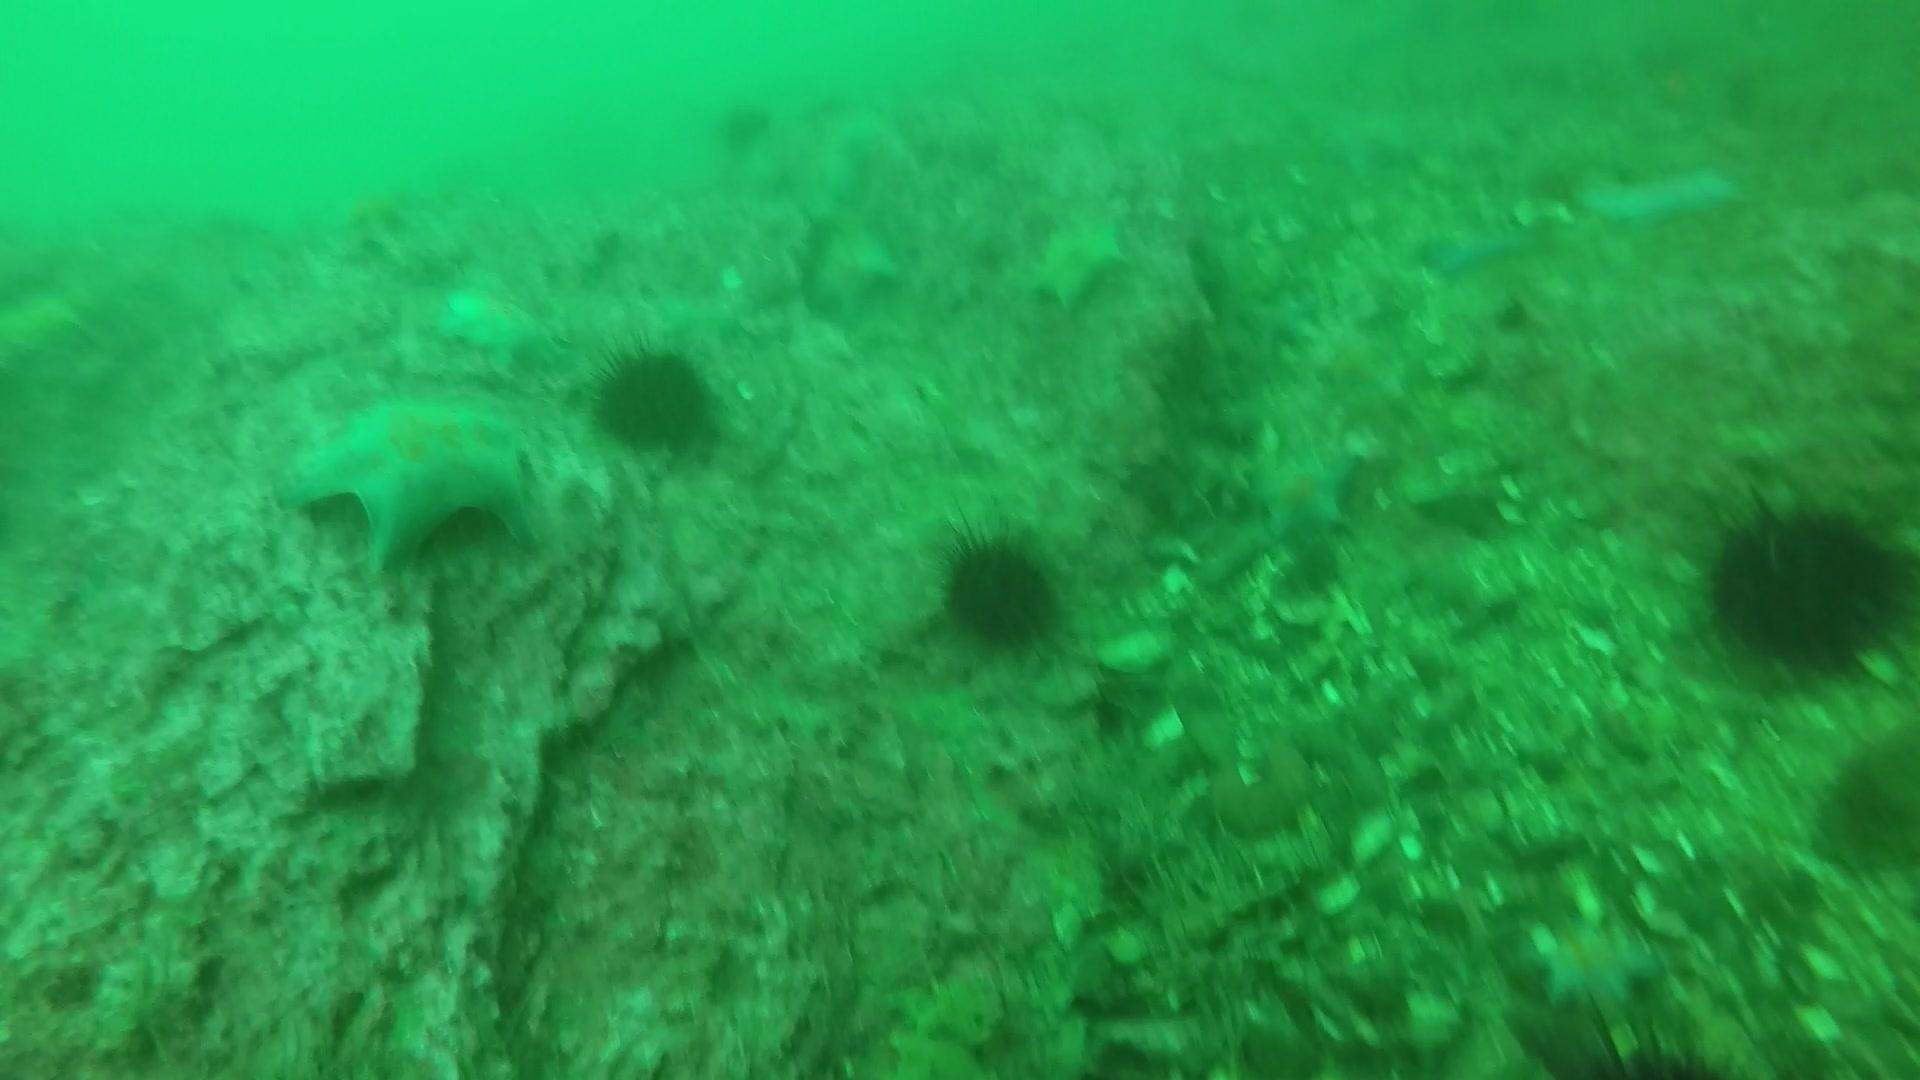echinus: (1693, 487, 1913, 683), (930, 521, 1069, 659), (584, 338, 724, 460), (709, 94, 775, 156)
holothurian: (881, 948, 1019, 1080)
starfish: (277, 392, 550, 576), (1516, 903, 1665, 1021), (1237, 423, 1371, 549), (1021, 200, 1137, 316), (429, 274, 555, 373), (1291, 310, 1408, 407), (800, 218, 906, 323), (1307, 98, 1428, 182), (1412, 211, 1538, 282)
